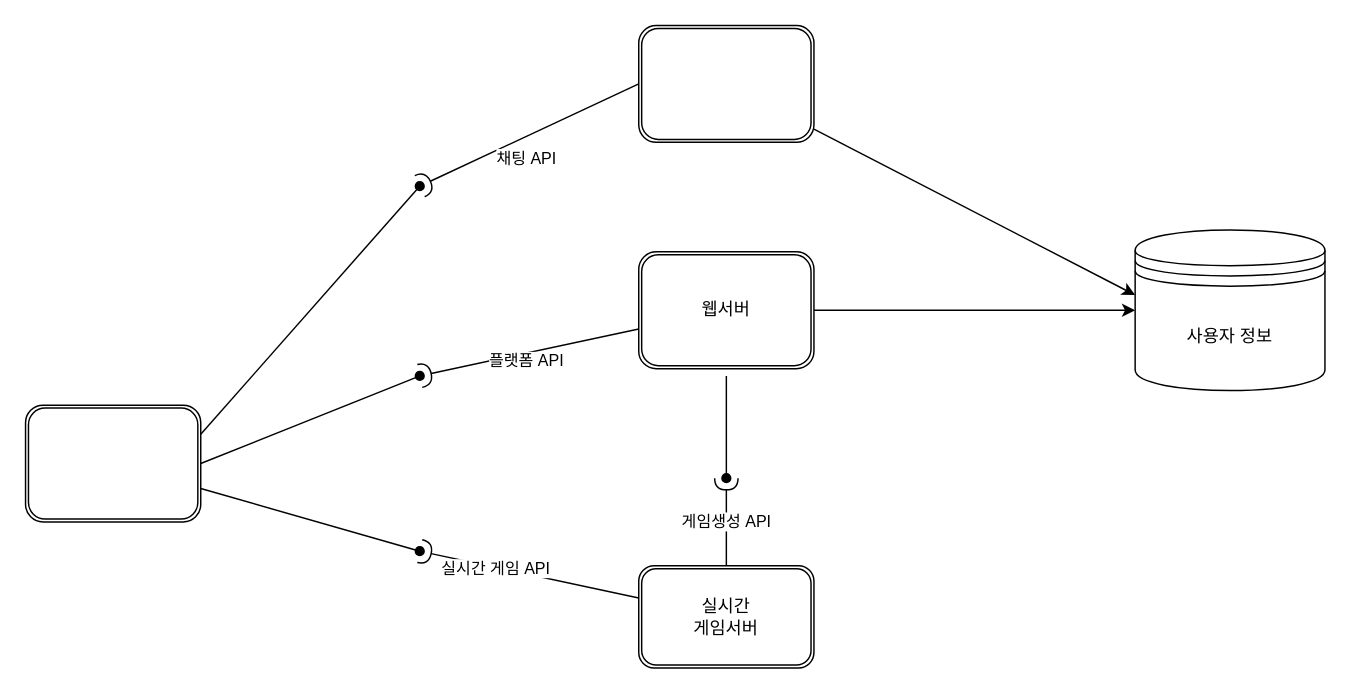
Image size: 1351x694. Some labels were removed from this diagram. The centre of each missing label's shape, as x and y in pixels:
채팅서버: (725,83)
클라이언트 (프론트앤드): (112,463)
